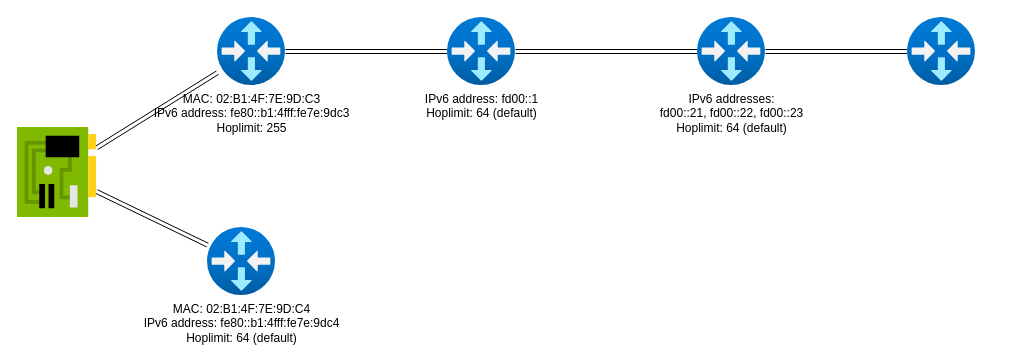
Image size: 1014x362. Some labels were removed from this diagram. Each missing label, with the centre of its shape:
IPv6 addres:: fd00::3 Hoplimit: 64 (default): the point at 941,51
TAP device: the point at 56,172
